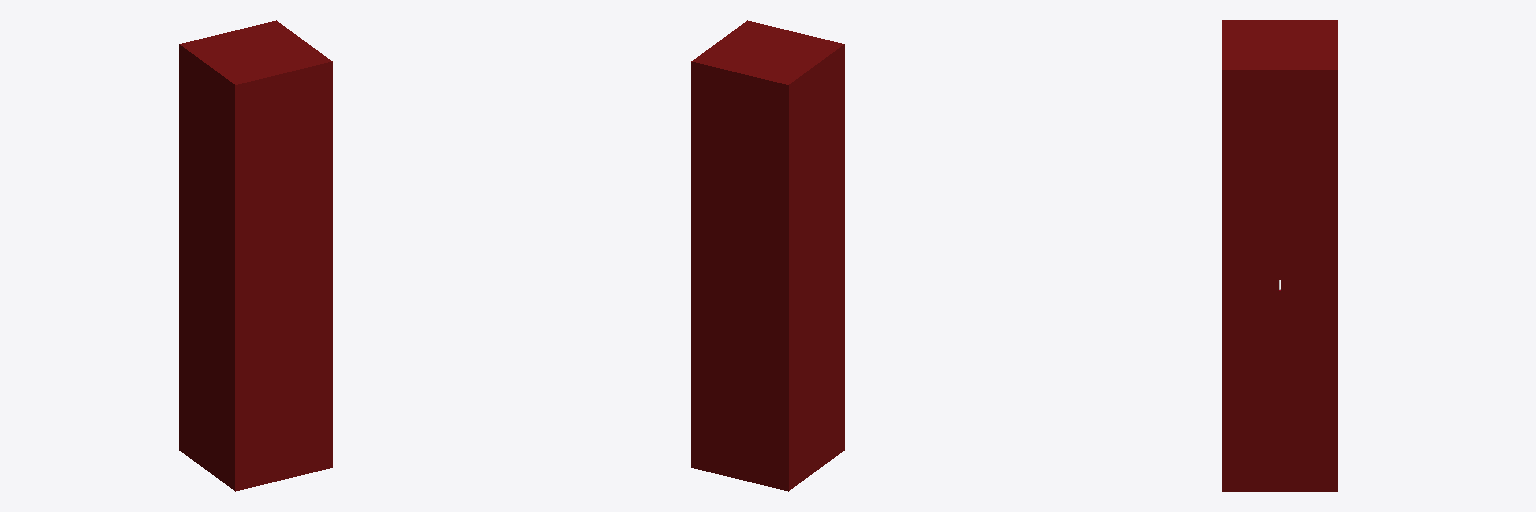
URDF robot description (valve):
<?xml version="1.0"?>
<robot name="valve">
  <link name="valve_base_link">
    <visual>
      <geometry>
        <box size="0.5 0.5 2.0"/>
      </geometry>
      <material name="redish">
	<color rgba="0.5 0.1 0.1 0.5"/>
      </material>
    </visual>
    <collision>
      <geometry>
        <box size="0.5 .5 2.0"/>
      </geometry>
    </collision>
    <inertial>
      <origin xyz="0 0 0"/>
      <mass value="10"/>
      <inertia ixx="1.0" ixy="0.0" ixz="0.0" iyy="1.0" iyz="0.0" izz="1.0"/>
    </inertial>
  </link>

  <link name="handle">
    <visual>
      <geometry>
	<mesh filename="package://wpi_drc_sim/meshes/valve_models/red-valve-6-star.dae" scale="0.05 0.05 0.05"/>
      </geometry>
    </visual>
    <collision>
      <geometry>
        <mesh filename="package://wpi_drc_sim/meshes/valve_models/red-valve-6-star.stl" scale="0.05 0.05 0.05"/>
      </geometry>
    </collision>
    <inertial>
      <origin xyz="0 0 0"/>
      <mass value="0.1"/>
      <inertia ixx="1.0" ixy="0.0" ixz="0.0" iyy="1.0" iyz="0.0" izz="1.0"/>
    </inertial>
  </link>
  
  <link name="rod">
    <visual>
      <geometry>
	<cylinder length="0.1" radius="0.005"/>
      </geometry>
      <origin rpy="0 1.57075 0" xyz="0 0 0"/>
      <material name="whiteish">
	<color rgba="1.0 1.0 1.0 1.0"/>
      </material>
    </visual>
    <collision>
      <geometry>
	<cylinder length="0.1" radius="0.005"/>
      </geometry>
      <origin rpy="0 1.57075 0" xyz="0 0 0"/>
    </collision>
    <inertial>
      <origin xyz="0 0 0"/>
      <mass value="0.1"/>
      <inertia ixx="1.0" ixy="0.0" ixz="0.0" iyy="1.0" iyz="0.0" izz="1.0"/>
    </inertial>
  </link>

  <joint name="body_to_rod" type="fixed">
    <parent link="valve_base_link"/>
    <child link="rod"/>
    <origin xyz="0.3 0.0 0.0"/>
  </joint>

  <joint name="rod_to_handle" type="continuous">
    <parent link="rod"/>
    <child link="handle"/>
    <axis xyz="1 0 0"/>
    <origin xyz="0.05 0 0"/>
  </joint>

  <!--gazebo>
    <turnGravityOff>true</turnGravityOff>
    <static>true</static>
  </gazebo-->

</robot>

--- Render facts (derived) ---
The picture shows the robot from 3 angles, left to right: view 1: azimuth 30°, elevation 25°; view 2: azimuth 150°, elevation 25°; view 3: azimuth 270°, elevation 25°; orthographic projection.
Model valve with 3 links and 2 joints (1 continuous, 1 fixed), rooted at valve_base_link, posed every joint at zero.
Visible links, largest first — view 1: valve_base_link; view 2: valve_base_link; view 3: valve_base_link.
Boxes of the visible links, box(x1,y1,x2,y2) form: valve_base_link: box(179, 20, 332, 491); valve_base_link: box(691, 20, 844, 491); valve_base_link: box(1222, 20, 1337, 491).
Size in the robot's own frame: 0.6014 by 0.5 by 2 metres.
Meshes: 1 distinct files referenced, 1 mesh visuals loaded (1 Collada DAE).